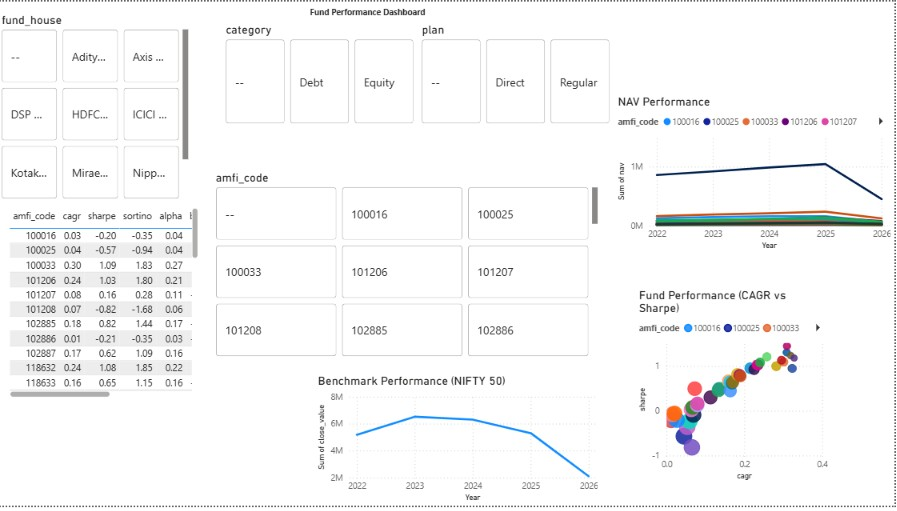

The page's visual inventory and layout, read from the dashboard file:
{"tool":"powerbi","page":{"name":"Page 2","canvas":[1280,720],"ordinal":1},"visuals":[{"type":"scatterChart","title":"Fund Performance (CAGR vs Sharpe)","fields":{"X":["fund_scorecard.cagr"],"Y":["fund_scorecard.sharpe"],"Size":["Sum(fund_scorecard.fund_score)"],"Series":["fund_scorecard.amfi_code"]},"box":[910,408.6,280,280],"z":0},{"type":"tableEx","fields":{"Values":["fund_scorecard.amfi_code","fund_scorecard.cagr","fund_scorecard.sharpe","fund_scorecard.sortino","fund_scorecard.alpha","fund_scorecard.beta","fund_scorecard.fund_score","fund_scorecard.max_drawdown"]},"box":[10,290,280,280],"z":1},{"type":"lineChart","title":"NAV Performance","fields":{"Category":["02_nav_history.date.Variation.Date Hierarchy.Year","02_nav_history.date.Variation.Date Hierarchy.Quarter","02_nav_history.date.Variation.Date Hierarchy.Month","02_nav_history.date.Variation.Date Hierarchy.Day"],"Y":["Sum(02_nav_history.nav)"],"Series":["01_fund_master.amfi_code"]},"box":[880,132.9,400,227.1],"z":2},{"type":"advancedSlicerVisual","fields":{"Values":["01_fund_master.amfi_code"]},"box":[306.2,241.2,555,272.5],"z":3},{"type":"lineChart","title":"Benchmark Performance (NIFTY 50)","fields":{"Category":["10_benchmark_indices.date.Variation.Date Hierarchy.Year","10_benchmark_indices.date.Variation.Date Hierarchy.Quarter","10_benchmark_indices.date.Variation.Date Hierarchy.Month","10_benchmark_indices.date.Variation.Date Hierarchy.Day"],"Y":["Sum(10_benchmark_indices.close_value)"]},"box":[451.4,531.4,410,188.6],"z":4},{"type":"advancedSlicerVisual","fields":{"Values":["01_fund_master.fund_house"]},"box":[0,15,276.7,271.7],"z":5},{"type":"advancedSlicerVisual","fields":{"Values":["01_fund_master.category"]},"box":[320,30,280,150],"z":6},{"type":"advancedSlicerVisual","fields":{"Values":["01_fund_master.plan"]},"box":[600,30,280,150],"z":7},{"type":"textbox","box":[440,0,205,30],"z":8}]}

Visuals, with their boxes in screenshot pixels (x1, y1, x2, y2), scaled from the page's 1280x720 canvas onto the 897x511 screenshot:
"Fund Performance (CAGR vs Sharpe)" scatterChart: rect(638, 290, 834, 489)
tableEx - fund_scorecard.amfi_code x fund_scorecard.cagr: rect(7, 206, 203, 405)
"NAV Performance" lineChart: rect(617, 94, 896, 256)
advancedSlicerVisual - 01_fund_master.amfi_code: rect(215, 171, 604, 365)
"Benchmark Performance (NIFTY 50)" lineChart: rect(316, 377, 604, 510)
advancedSlicerVisual - 01_fund_master.fund_house: rect(0, 11, 194, 203)
advancedSlicerVisual - 01_fund_master.category: rect(224, 21, 420, 128)
advancedSlicerVisual - 01_fund_master.plan: rect(420, 21, 617, 128)
textbox: rect(308, 0, 452, 21)
